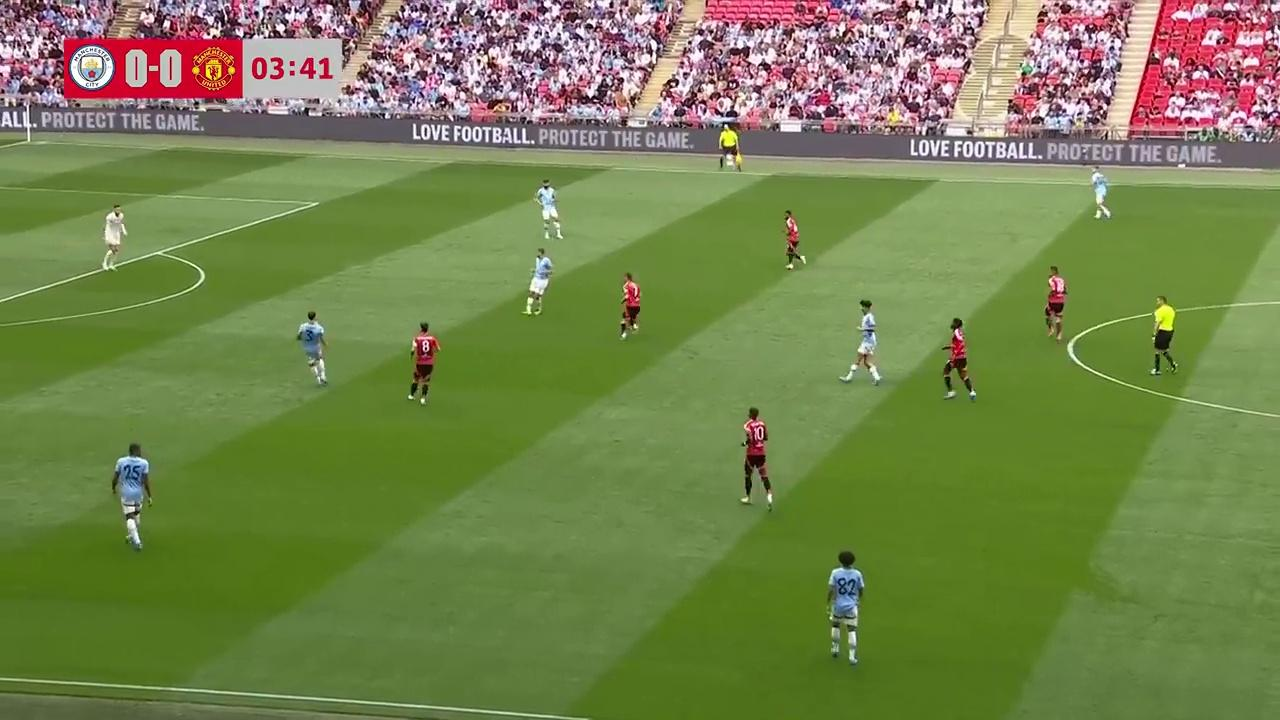ball: (523, 296, 534, 315)
player: (825, 549, 864, 665), (111, 445, 151, 551), (740, 406, 773, 511), (841, 300, 881, 385), (941, 318, 977, 401), (408, 321, 440, 405), (296, 311, 329, 385), (524, 247, 553, 315), (534, 179, 563, 239), (1044, 266, 1067, 341), (102, 203, 127, 270), (619, 272, 641, 340), (783, 210, 805, 269), (1089, 167, 1111, 219)
referee: (1150, 294, 1177, 375), (719, 124, 744, 172)
